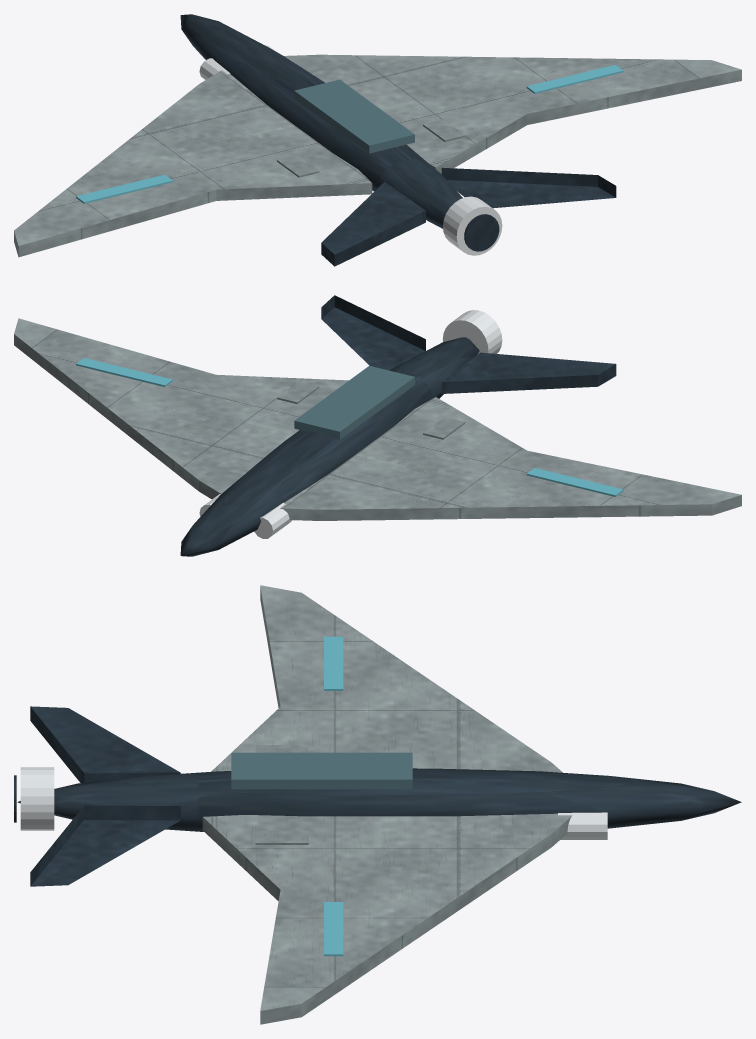
File: skua-drone-hd.glb
The picture shows the model from 3 angles, top to bottom: view 1: azimuth 30°, elevation 25°; view 2: azimuth 150°, elevation 25°; view 3: azimuth 270°, elevation 25°; orthographic projection. The views are drawn at different scales.
Visible parts, largest first — view 1: Left UAV swept wing, Right UAV swept wing, Faceted drone composite fuselage, UAV angular tail 1, UAV dorsal avionics bay, UAV angular tail -1, Ducted rear motor, Motor black thrust opening, UAV wing accent 1, UAV wing accent -1, Target designation paint 1, Target designation paint -1; view 2: Left UAV swept wing, Right UAV swept wing, Faceted drone composite fuselage, UAV angular tail -1, UAV dorsal avionics bay, UAV angular tail 1, Ducted rear motor, UAV wing accent -1, UAV wing accent 1, Gimbaled sensor fairing -1, Target designation paint 1, Target designation paint -1; view 3: Right UAV swept wing, Left UAV swept wing, Faceted drone composite fuselage, UAV dorsal avionics bay, UAV angular tail 1, UAV angular tail -1, Ducted rear motor, Gimbaled sensor fairing 1, UAV wing accent 1, UAV wing accent -1, Target designation paint 1.
Part boxes in pixels (x1,y1,x2,y2): Left UAV swept wing: [14, 70, 372, 257]; Right UAV swept wing: [284, 54, 741, 173]; Faceted drone composite fuselage: [180, 14, 462, 228]; UAV angular tail 1: [441, 167, 616, 208]; UAV dorsal avionics bay: [294, 79, 414, 153]; UAV angular tail -1: [321, 182, 425, 266]; Ducted rear motor: [442, 196, 502, 255]; Motor black thrust opening: [464, 214, 499, 251]; UAV wing accent 1: [526, 64, 623, 93]; UAV wing accent -1: [76, 174, 172, 203]; Target designation paint 1: [423, 119, 465, 141]; Target designation paint -1: [277, 155, 319, 177]; Left UAV swept wing: [280, 397, 741, 520]; Right UAV swept wing: [14, 318, 348, 499]; Faceted drone composite fuselage: [180, 337, 479, 556]; UAV angular tail -1: [441, 352, 616, 393]; UAV dorsal avionics bay: [294, 365, 414, 439]; UAV angular tail 1: [321, 295, 425, 370]; Ducted rear motor: [442, 310, 502, 354]; UAV wing accent -1: [526, 468, 623, 496]; UAV wing accent 1: [76, 358, 172, 386]; Gimbaled sensor fairing -1: [254, 502, 292, 538]; Target designation paint 1: [277, 381, 319, 403]; Target designation paint -1: [423, 417, 465, 439]; Right UAV swept wing: [202, 813, 572, 1024]; Left UAV swept wing: [211, 585, 562, 772]; Faceted drone composite fuselage: [17, 768, 741, 831]; UAV dorsal avionics bay: [231, 752, 412, 789]; UAV angular tail 1: [30, 805, 180, 886]; UAV angular tail -1: [30, 706, 180, 782]; Ducted rear motor: [20, 767, 54, 830]; Gimbaled sensor fairing 1: [558, 812, 607, 839]; UAV wing accent 1: [324, 902, 343, 956]; UAV wing accent -1: [324, 636, 343, 690]; Target designation paint 1: [255, 831, 308, 844].
Bounding box in the file's own units: 11.4 × 0.81 × 8.23.
Materials: 7 (4 with a texture image).
